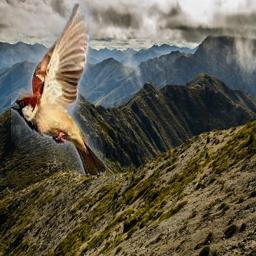Sparrow: (12, 3, 107, 175)
